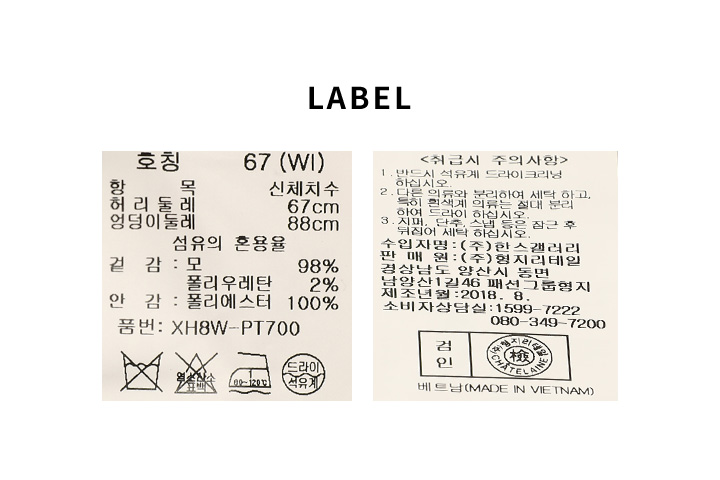KR_dry_clean_petroleum: (278, 349, 329, 398)
KR_iron_low_temp_with_cloth: (225, 347, 275, 397)
KR_no_bleach: (169, 348, 221, 396)
KR_no_wash: (119, 347, 164, 394)
